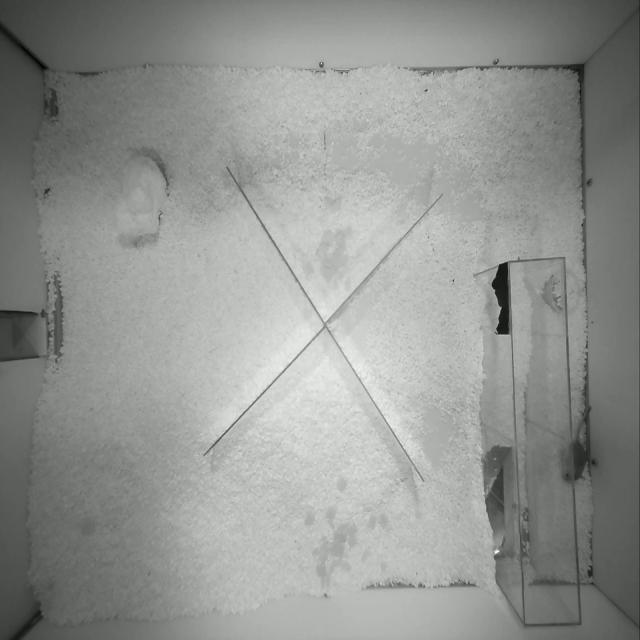pup_fluffy: (560, 406, 590, 481)
